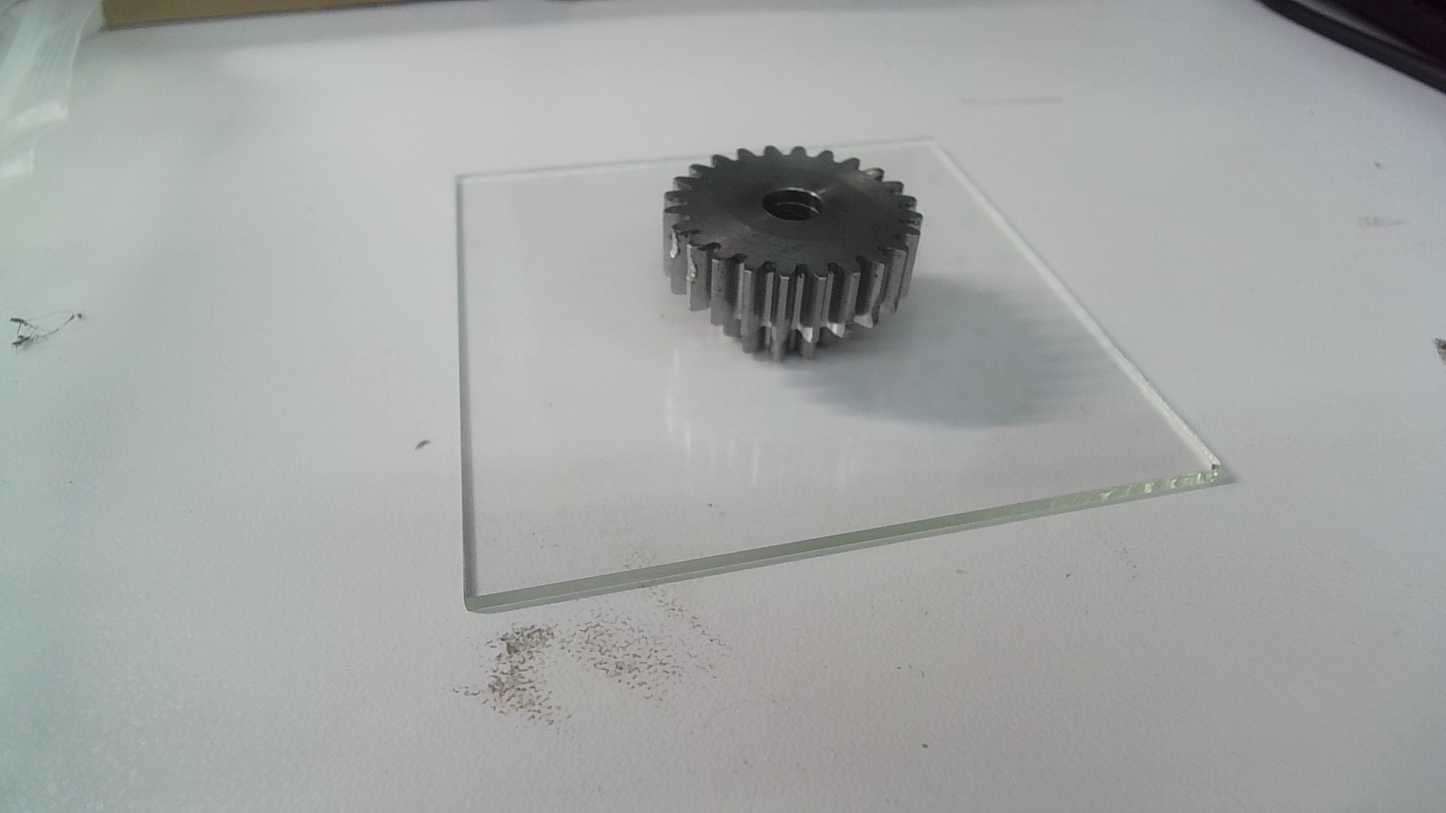gear: (659, 144, 927, 367)
